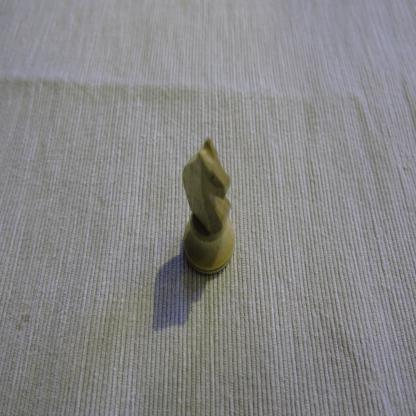white-knight: (182, 136, 236, 278)
